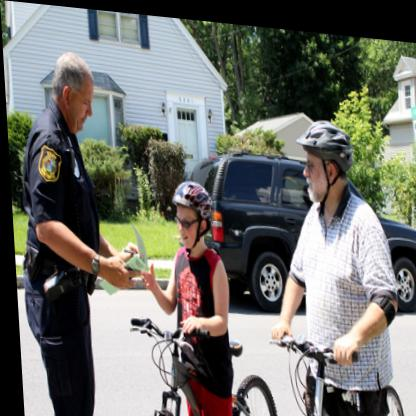With Helmet: (294, 112, 356, 201), (163, 163, 217, 258), (46, 46, 98, 134)
